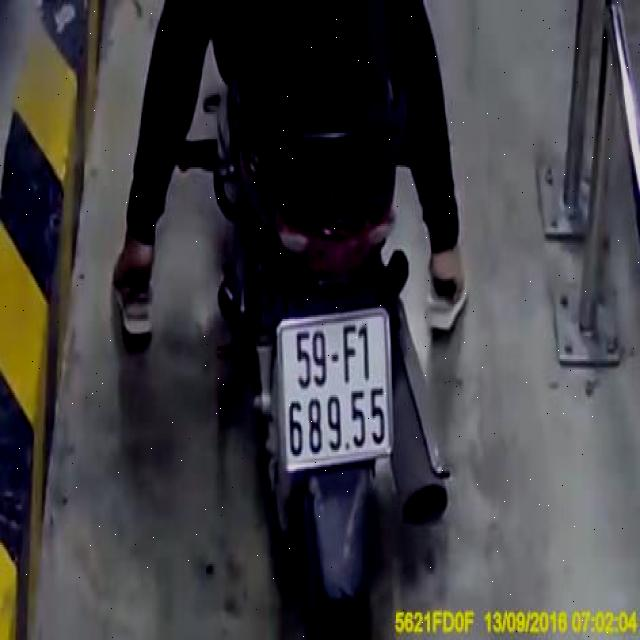1: (358, 322, 372, 382)
5: (370, 386, 387, 448), (349, 390, 366, 451), (296, 331, 312, 390)
6: (288, 399, 304, 457)
8: (308, 397, 324, 456)
9: (325, 394, 343, 454), (312, 329, 328, 388)
F: (342, 324, 358, 384)
